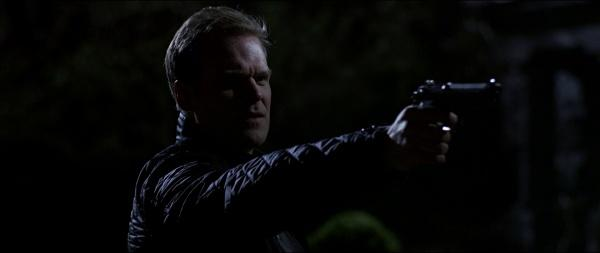Gun: (405, 77, 502, 128)
